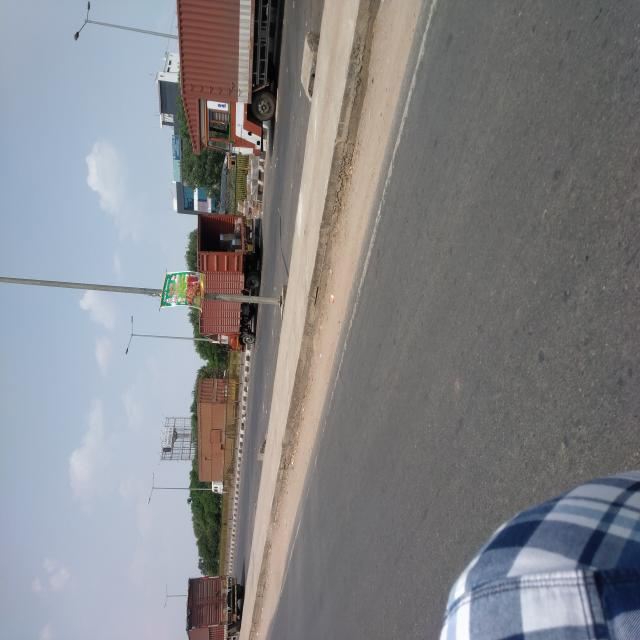Truck: (360, 234, 480, 385), (218, 263, 317, 346), (110, 264, 199, 318), (3, 246, 48, 322)
